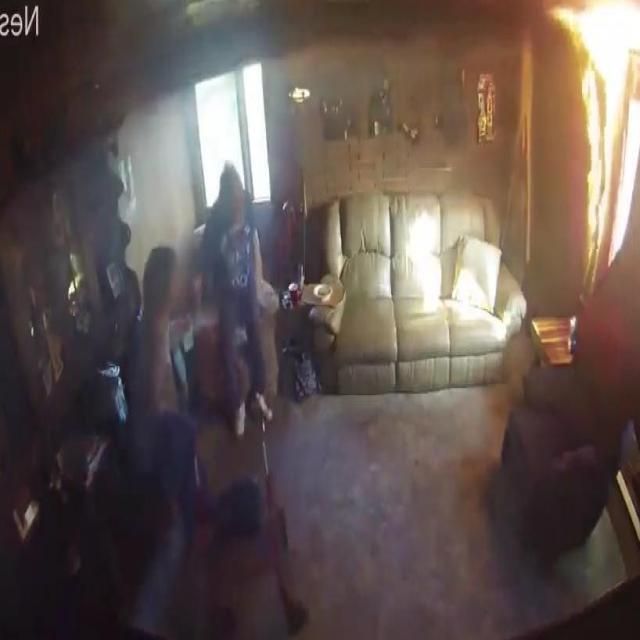fire: (277, 11, 494, 120)
smoke: (549, 0, 640, 267)
